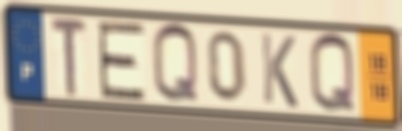0: (205, 28, 250, 106)
E: (95, 20, 148, 103)
K: (258, 30, 301, 112)
Q: (306, 31, 359, 118), (149, 21, 202, 108)
T: (48, 14, 90, 100)
